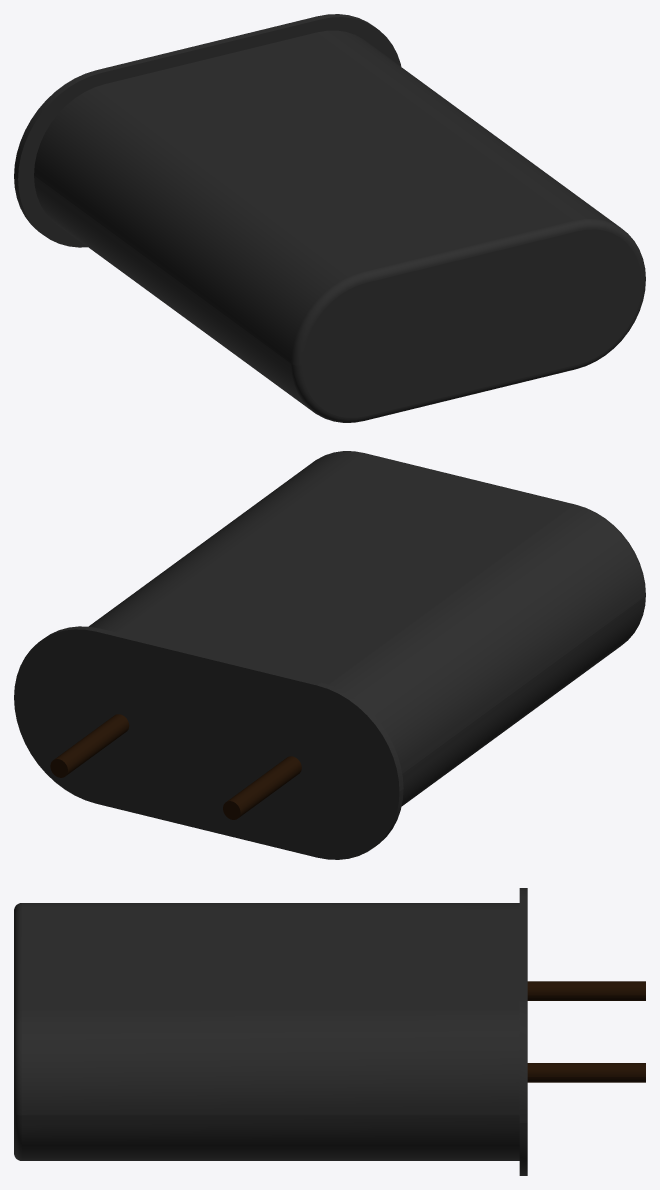
File: crystal_hc49-u_vertical.glb
3 renders of one model, top to bottom at view 1: azimuth 30°, elevation 25°; view 2: azimuth 150°, elevation 25°; view 3: azimuth 270°, elevation 25°, orthographic. The views are drawn at different scales.
Visible parts, largest first — view 1: Crystal_HC49-U_Vertical; view 2: Crystal_HC49-U_Vertical; view 3: Crystal_HC49-U_Vertical.
Boxes of the visible parts, box(x1,y1,x2,y2) form: Crystal_HC49-U_Vertical: box(14, 14, 645, 422); Crystal_HC49-U_Vertical: box(14, 451, 645, 859); Crystal_HC49-U_Vertical: box(14, 888, 645, 1175).
Size of the model in its own units: 10.9 by 4.65 by 16.
